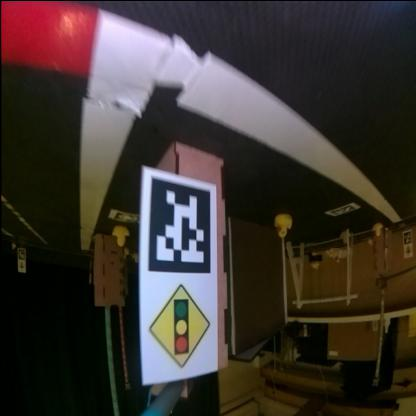Duckie: (274, 214, 292, 238), (112, 224, 126, 247), (372, 223, 383, 236)
Intersection sign: (403, 246, 412, 258), (18, 260, 26, 272)
QR code: (146, 173, 211, 275), (325, 203, 359, 217), (108, 209, 136, 223), (402, 230, 412, 244), (18, 248, 26, 260)
Signal sign: (140, 288, 216, 384)
